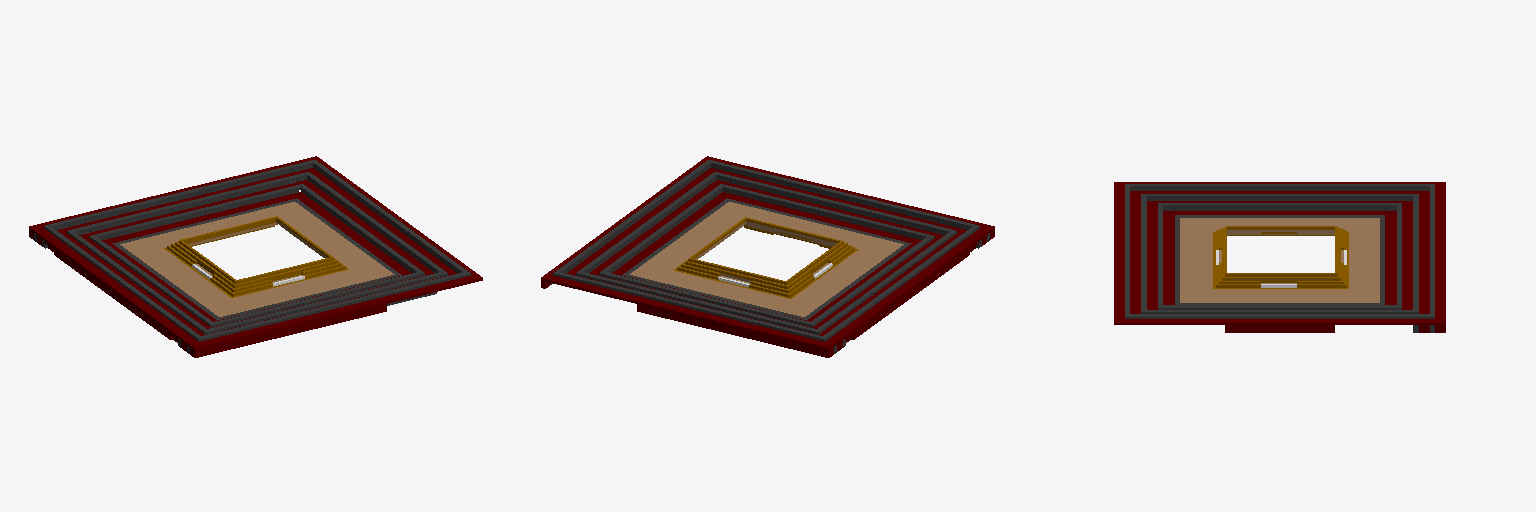
The picture shows the model from 3 angles: view 1: azimuth 30°, elevation 25°; view 2: azimuth 150°, elevation 25°; view 3: azimuth 270°, elevation 25°; orthographic projection.
Parts seen in each view (by area): view 1: surrounding; view 2: surrounding; view 3: surrounding.
Boxes of the visible parts, box(x1,y1,x2,y2) form: surrounding: box(29, 156, 482, 357); surrounding: box(541, 156, 994, 357); surrounding: box(1114, 182, 1445, 332).
Bounding box in the file's own units: 120 × 5 × 120.
1 materials, 1 textured.